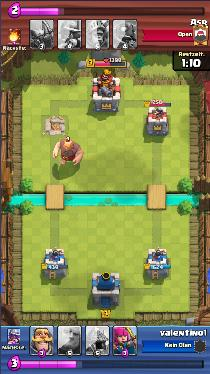enemy_giant: (51, 138, 84, 165)
